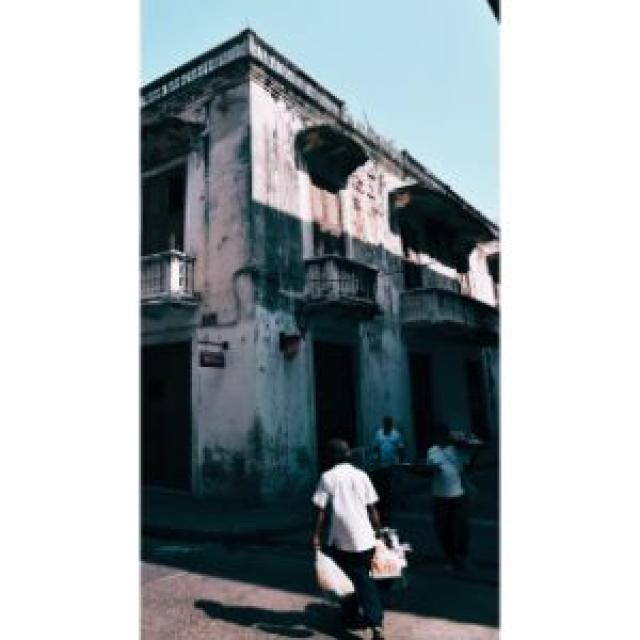nonfall: (302, 434, 414, 628), (425, 424, 487, 562)
